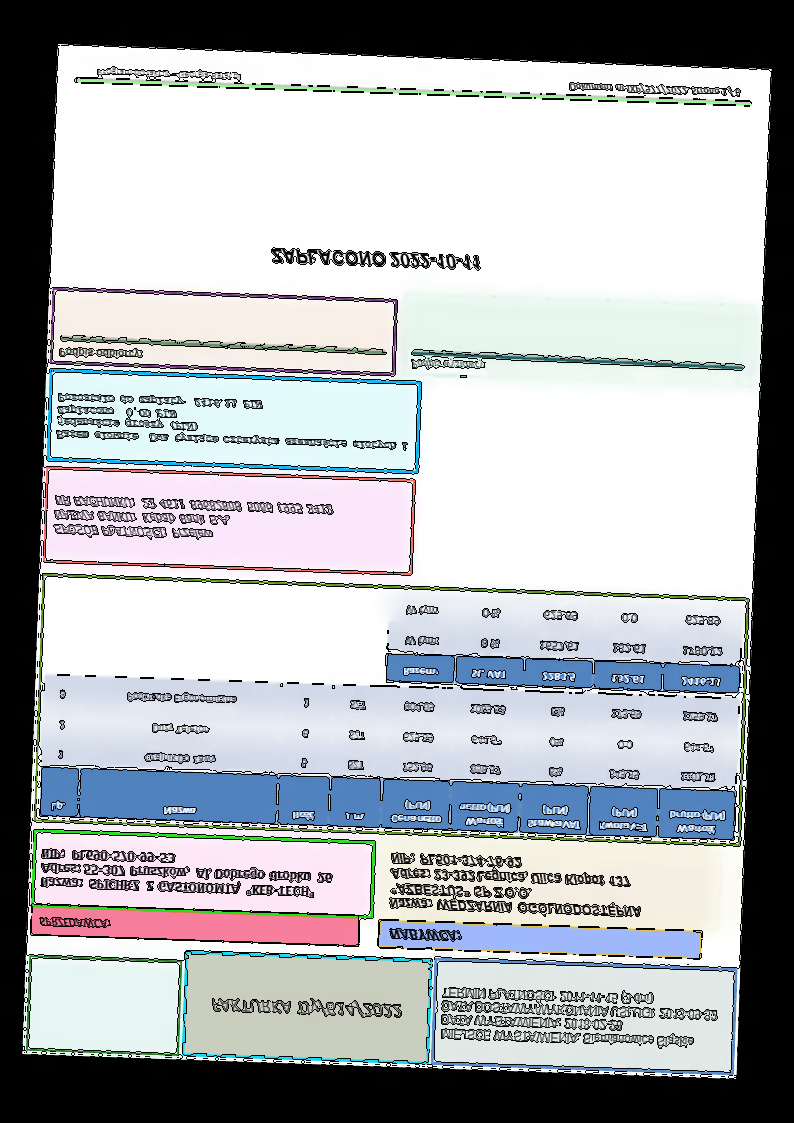Table: (38, 674, 740, 842), (385, 590, 744, 696)
TextBox: (55, 391, 409, 452), (438, 982, 720, 1051), (387, 852, 644, 920), (39, 846, 334, 900), (50, 493, 334, 547), (268, 246, 483, 274), (208, 995, 402, 1020), (566, 80, 741, 98), (94, 65, 242, 83), (407, 355, 488, 375), (56, 344, 144, 362), (36, 913, 112, 932), (386, 926, 463, 944)
